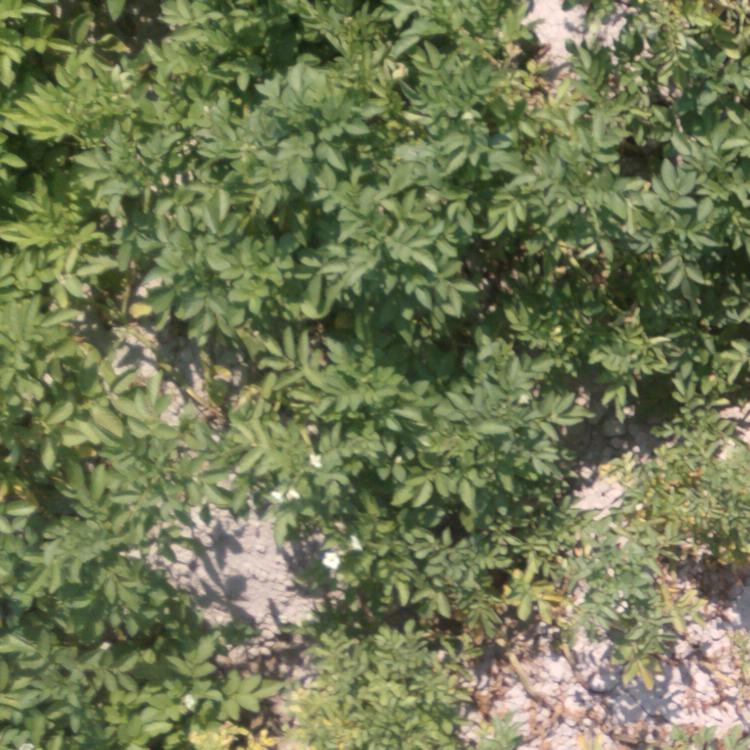healthy: (1, 316, 403, 530), (6, 1, 278, 302), (1, 536, 366, 750), (384, 1, 499, 158), (288, 41, 374, 235)
stressed: (491, 335, 750, 542), (381, 539, 571, 750), (571, 6, 750, 185), (566, 186, 741, 329), (573, 614, 745, 750)
